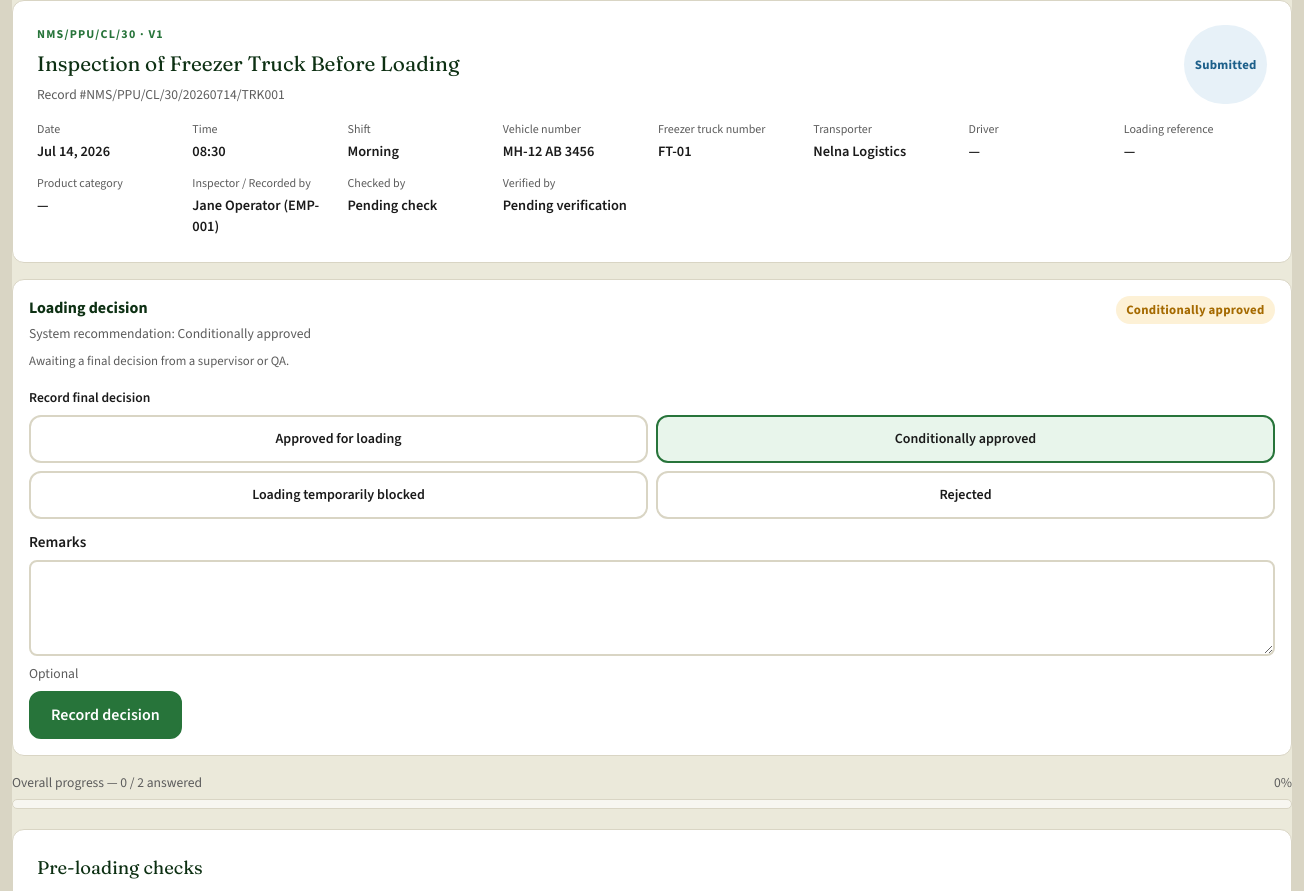
Test: FreezerTruckForm — read-only detail with loading decision panel › lets a supervisor/QA holding loading_decisions:approve record the final decision
The width and height of the screenshot is (1304, 891).
Expected: the text "Record final decision" is shown, [29,388,150,406]
Click the button "Approved for loading".
click(338, 439)  # box [29,415,648,463]
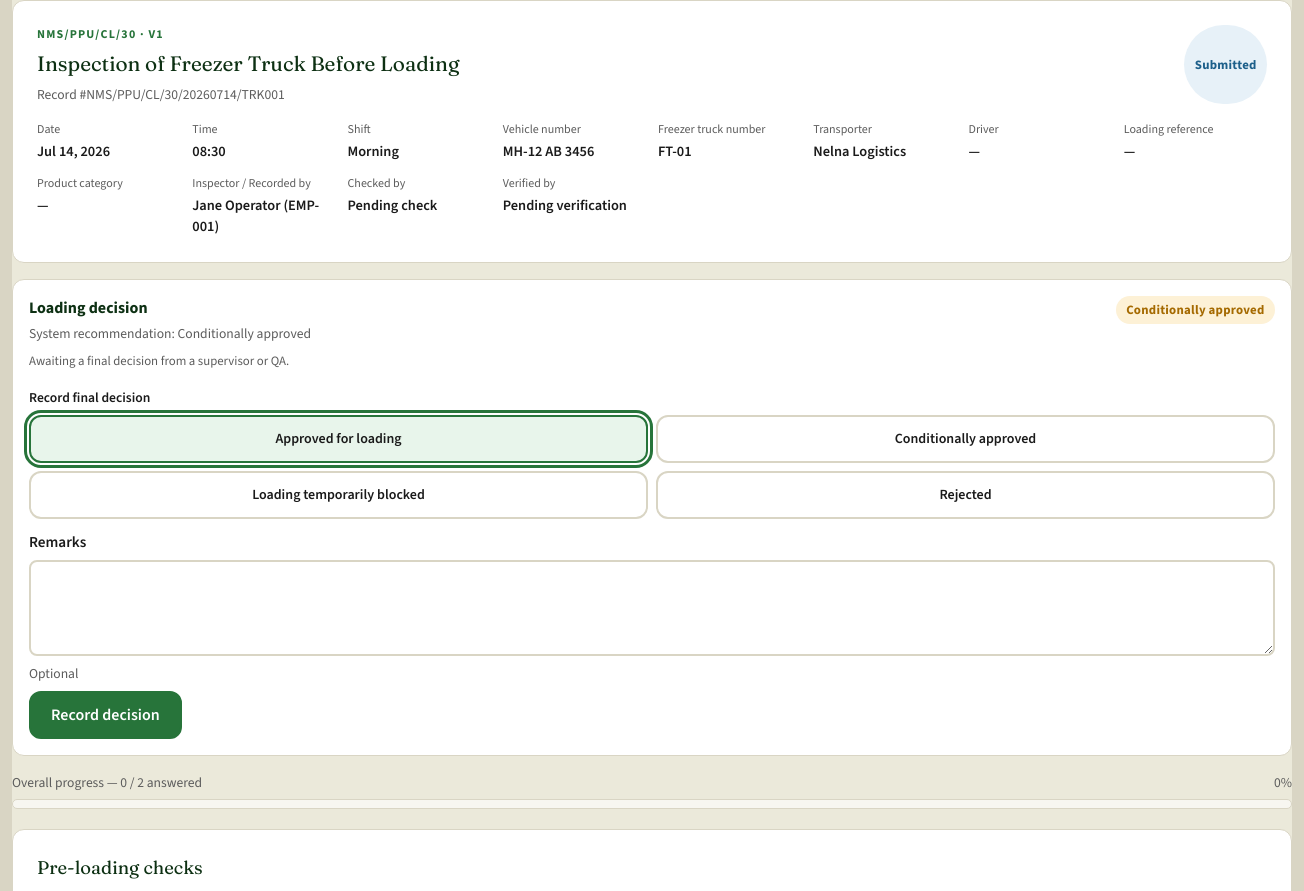
Click the button "Record decision".
click(105, 715)  # box [29,691,182,739]
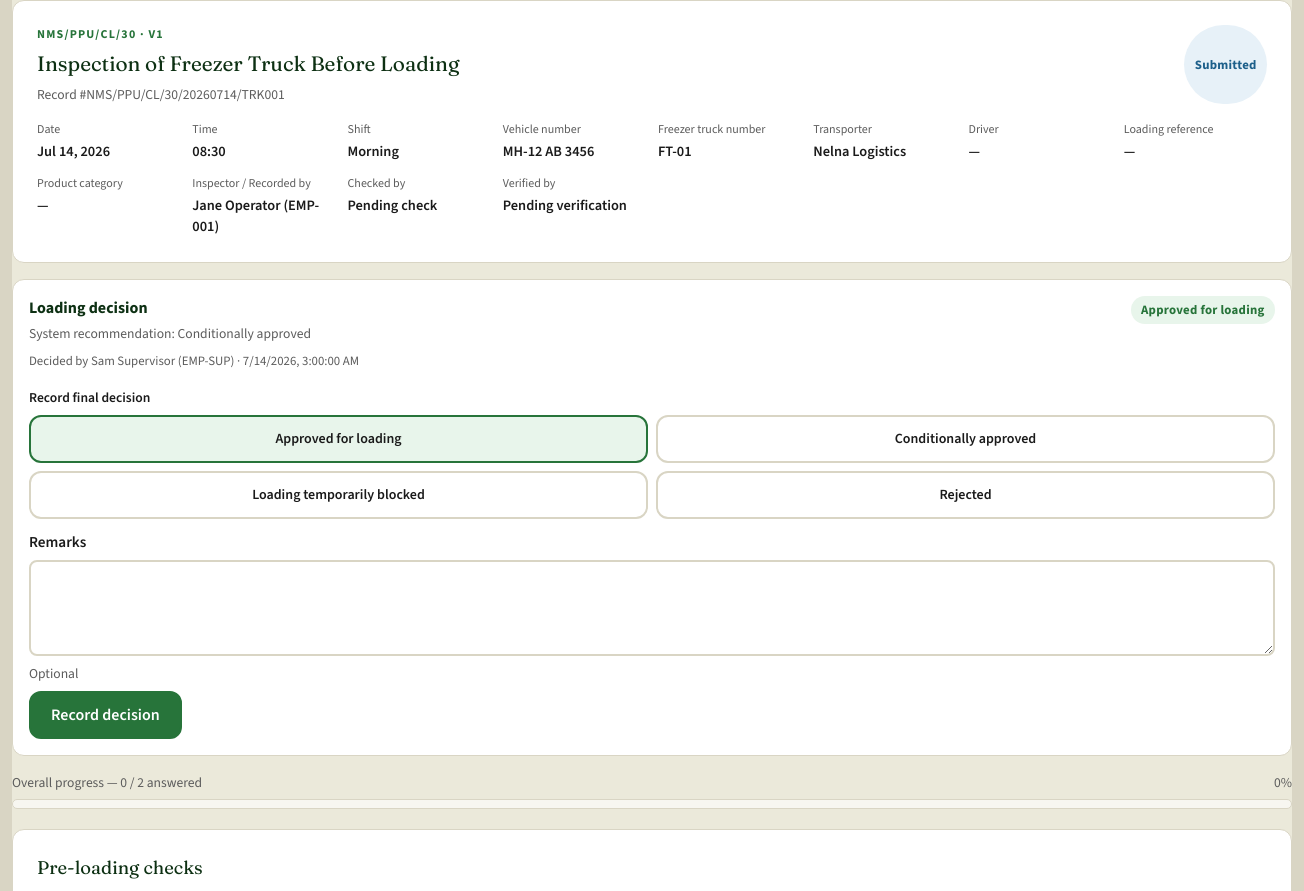
Expected: the text "Decided by Sam Supervisor (EMP-SUP) · 7/14/2026, 3:00:00 AM" is shown, [29,352,359,369]
